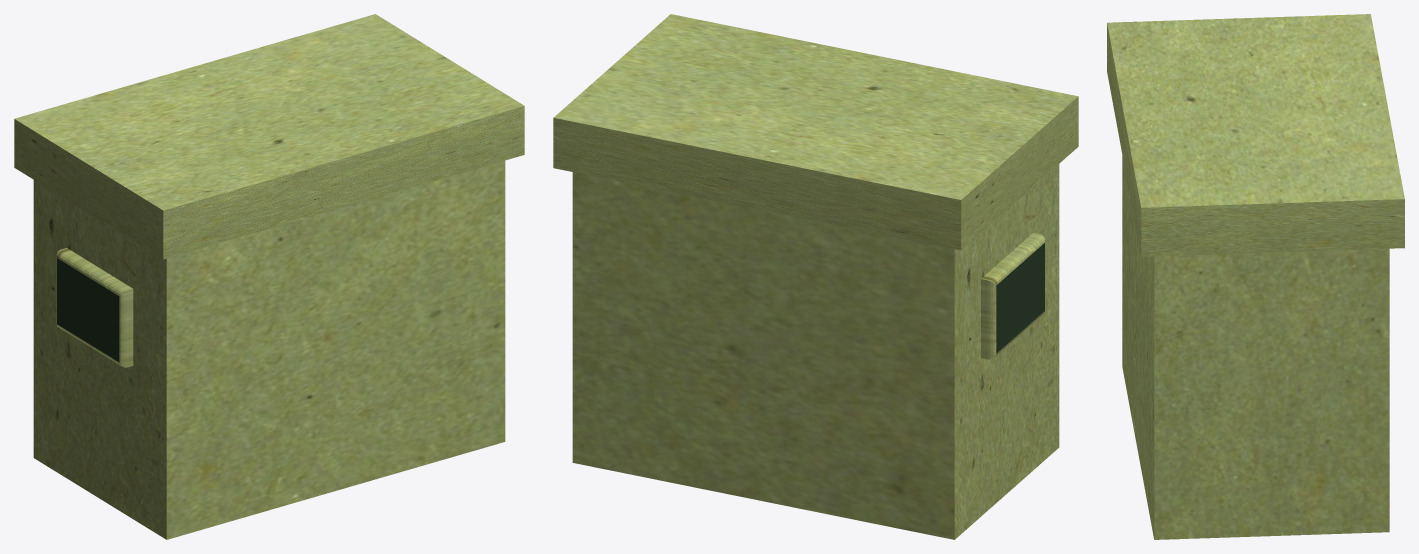
Rendered from KOROBKASMALL.fbx.
The picture shows the model from 3 angles, left to right: view 1: azimuth 30°, elevation 25°; view 2: azimuth 150°, elevation 25°; view 3: azimuth 270°, elevation 25°; orthographic projection. The views are drawn at different scales.
Parts seen in each view (by area): view 1: SMALKOROBKA.002; view 2: SMALKOROBKA.002; view 3: SMALKOROBKA.002.
Part boxes in pixels (<box>): SMALKOROBKA.002: <box>14,14,524,539</box>; SMALKOROBKA.002: <box>553,14,1078,539</box>; SMALKOROBKA.002: <box>1107,14,1404,539</box>.
Bounding box in the file's own units: 151 × 123 × 98.24.
Materials: 2 (1 with a texture image).
